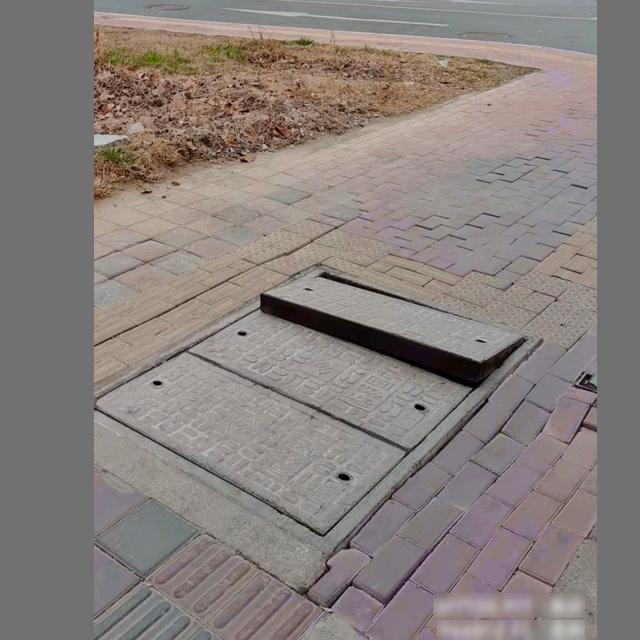uncovered: (94, 264, 544, 551)
